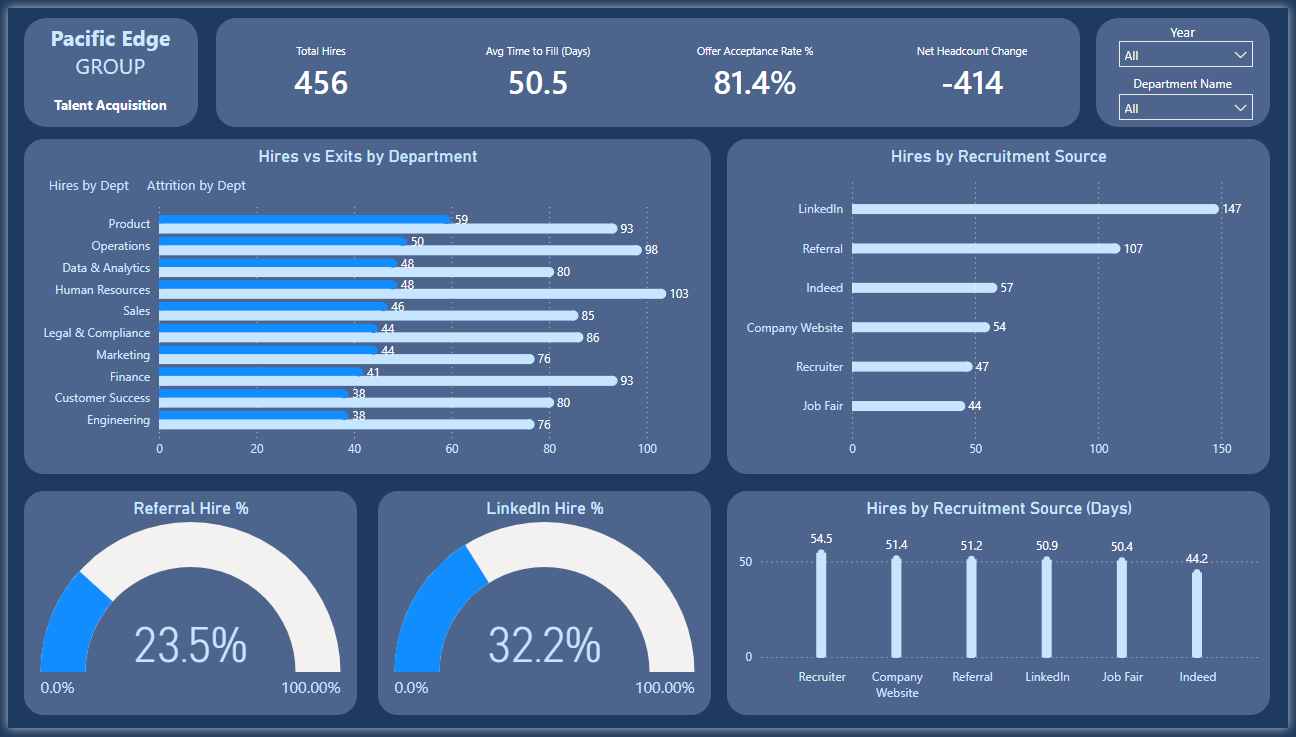

What the dashboard file says about the page in this screenshot:
{"tool":"powerbi","page":{"name":"Talent Acquisition","canvas":[1280,720],"ordinal":2},"visuals":[{"type":"cardVisual","fields":{"Data":["_Measures.Total Hires","_Measures.Avg Time to Fill (Days)","_Measures.Offer Acceptance Rate %","_Measures.Net Headcount Change"]},"box":[207.8,10,864.4,108.9],"z":0},{"type":"shape","box":[15.6,10,174.4,108.9],"z":1000},{"type":"shape","box":[1087.8,10,174.4,108.9],"z":2000,"group":"g1"},{"type":"clusteredColumnChart","title":"Hires by Recruitment Source (Days)","fields":{"Category":["fact_hiring.recruitment_source"],"Y":["_Measures.Avg Time to Fill (Days)"]},"box":[719,483,543,224],"z":2000},{"type":"clusteredBarChart","title":"Hires by Recruitment Source","fields":{"Category":["fact_hiring.recruitment_source"],"Y":["_Measures.Total Hires"]},"box":[719,131,543,335],"z":3000},{"type":"textbox","box":[15.6,10,174.4,108.9],"z":4000},{"type":"group","id":"g1","title":"Group 1","box":[1087.8,10,174.4,121.1],"z":5000},{"type":"clusteredBarChart","title":"Hires vs Exits by Department","fields":{"Category":["dim_department.dept_name"],"Y":["_Measures.Hires by Dept","_Measures.Attrition by Dept"]},"box":[16,131,687,335],"z":6000},{"type":"gauge","title":"Referral Hire %","fields":{"MaxValue":["_Measures.Total Hires"],"Y":["_Measures.Referral Hire %"]},"box":[16,483,333,224],"z":7000},{"type":"slicer","fields":{"Values":["dim_date.year"]},"box":[1101.1,22.6,153.7,54.2],"z":8000,"group":"g1"},{"type":"gauge","title":"LinkedIn Hire %","fields":{"MaxValue":["_Measures.Total Hires"],"Y":["_Measures.LinkedIn Hire %"]},"box":[370,483,333,224],"z":8000},{"type":"slicer","fields":{"Values":["dim_department.dept_name"]},"box":[1101.1,75.8,153.7,55.3],"z":9000,"group":"g1"},{"type":"textbox","box":[1087.9,10,174.2,47.4],"z":10000,"group":"g1"},{"type":"textbox","box":[1087.9,60.5,174.2,47.9],"z":11000,"group":"g1"}]}

Visuals, with their boxes in screenshot pixels (x1, y1, x2, y2), scaled from the page's 1280x720 canvas onto the 1296x737 screenshot:
cardVisual - _Measures.Total Hires x _Measures.Avg Time to Fill (Days): 210 10 1086 122
shape: 16 10 192 122
shape: 1101 10 1278 122
"Hires by Recruitment Source (Days)" clusteredColumnChart: 728 494 1278 724
"Hires by Recruitment Source" clusteredBarChart: 728 134 1278 477
textbox: 16 10 192 122
"Group 1" group: 1101 10 1278 134
"Hires vs Exits by Department" clusteredBarChart: 16 134 712 477
"Referral Hire %" gauge: 16 494 353 724
slicer - dim_date.year: 1115 23 1270 79
"LinkedIn Hire %" gauge: 375 494 712 724
slicer - dim_department.dept_name: 1115 78 1270 134
textbox: 1101 10 1278 59
textbox: 1101 62 1278 111
